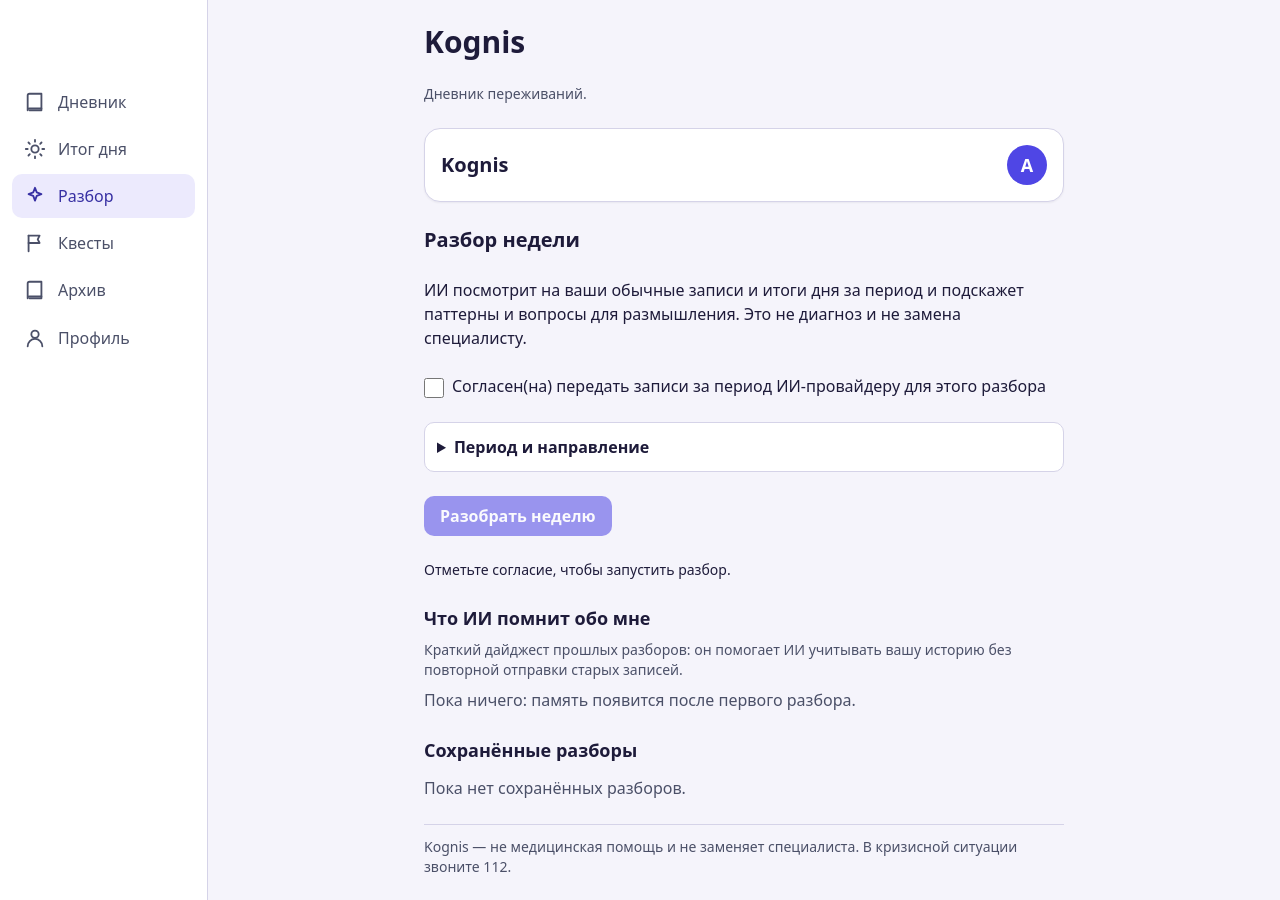
it: повтор того же разбора предлагает открыть существующий
Click the checkbox labelled "Согласен": x=434, y=388 [424,378,444,398]
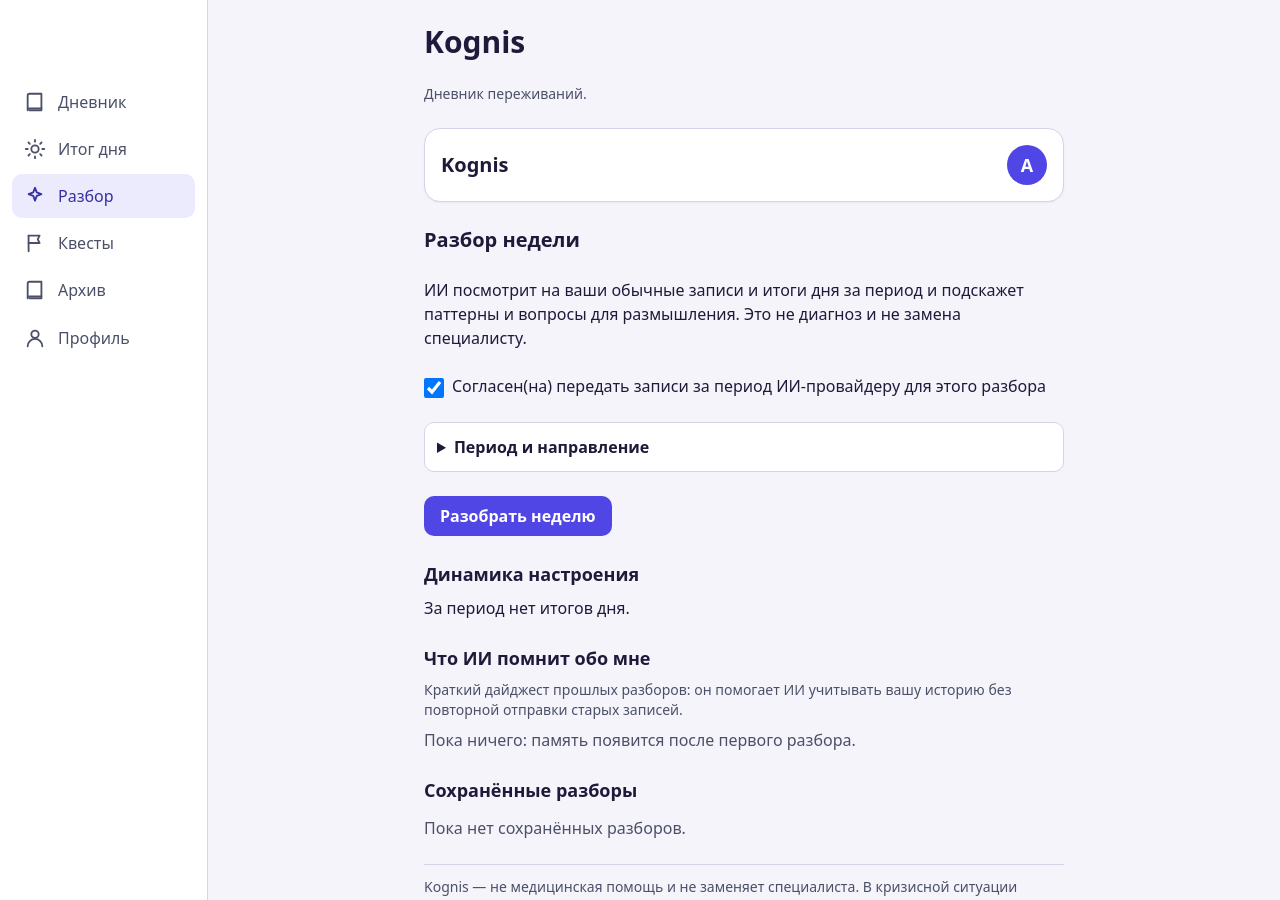
Click the button with test id "run-analysis": x=518, y=516 [424,496,612,536]
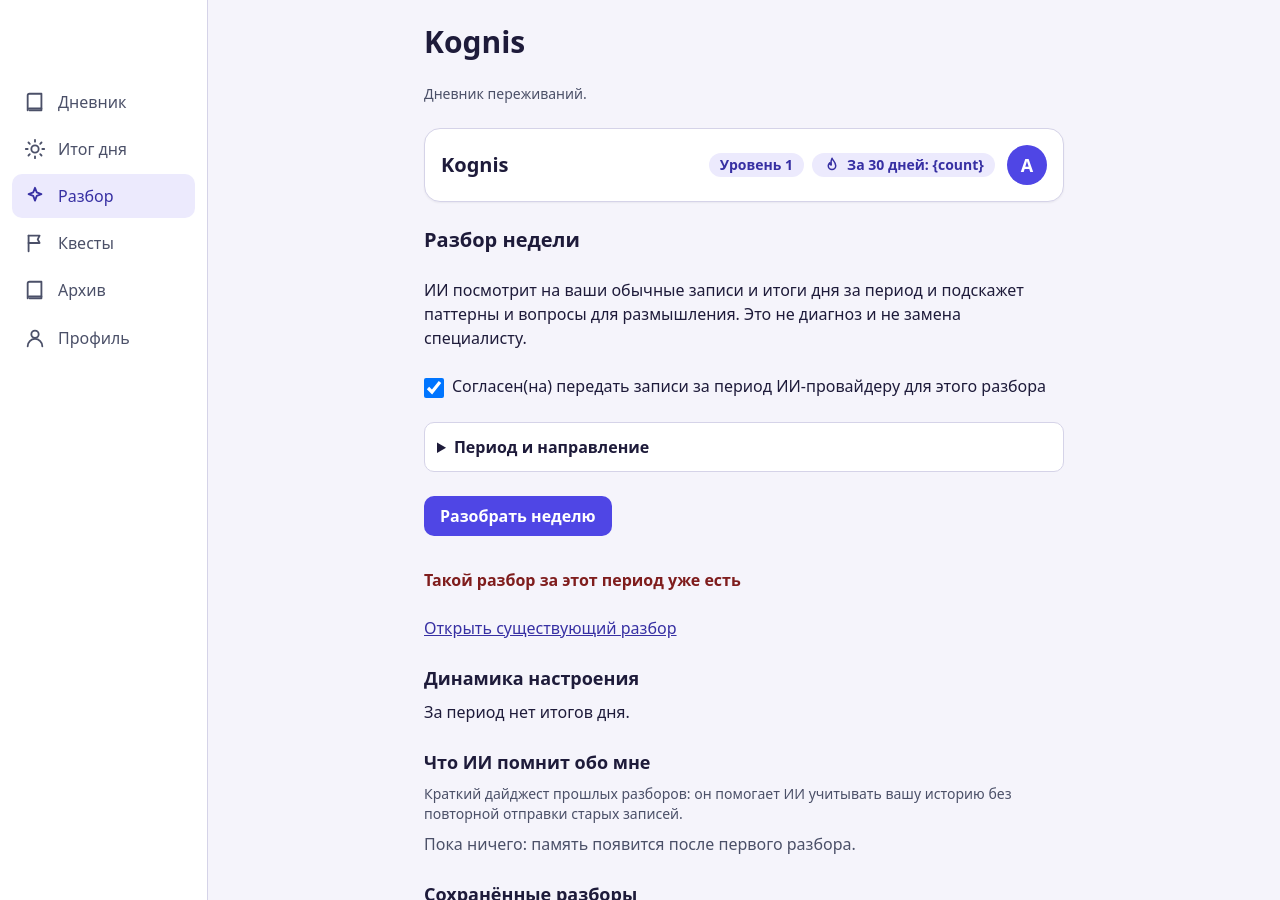
expect the message shows "уже есть": met, box [424,569,741,591]
Click the button "Открыть существующий разбор": x=550, y=628 [424,616,676,640]
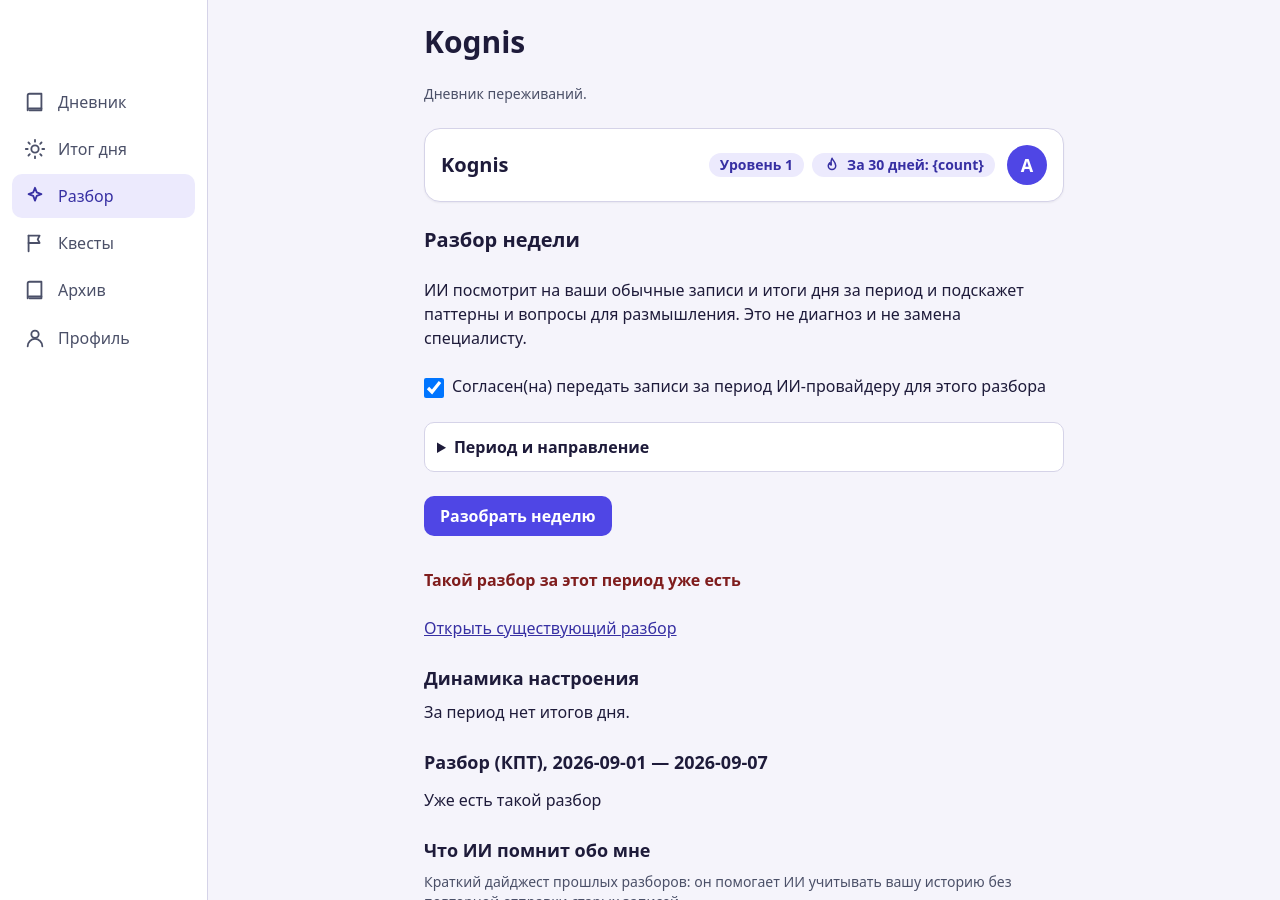
expect the element with test id "analysis-result" shows "Уже есть такой разбор": met, box [424,789,602,811]
